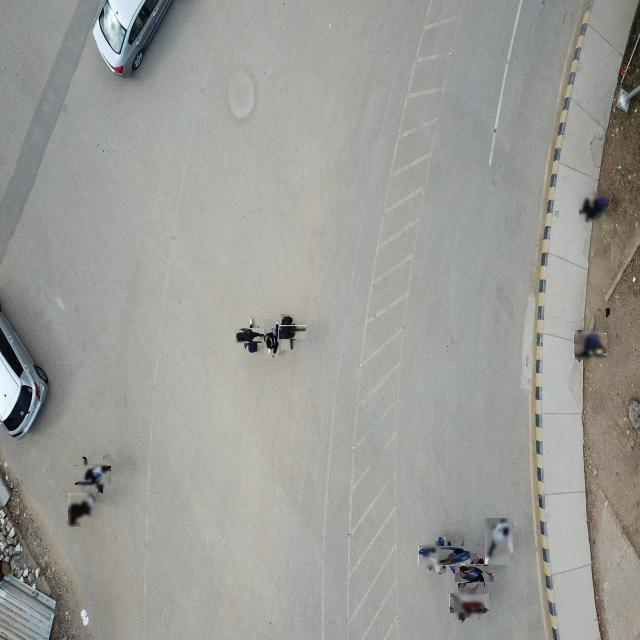Manusia: (485, 518, 514, 566), (454, 588, 485, 619), (579, 191, 609, 223), (68, 493, 95, 528), (576, 330, 606, 361), (78, 460, 108, 490), (460, 558, 490, 588), (423, 541, 451, 570), (440, 542, 468, 571), (239, 323, 265, 349), (275, 320, 302, 345), (264, 319, 280, 359)
